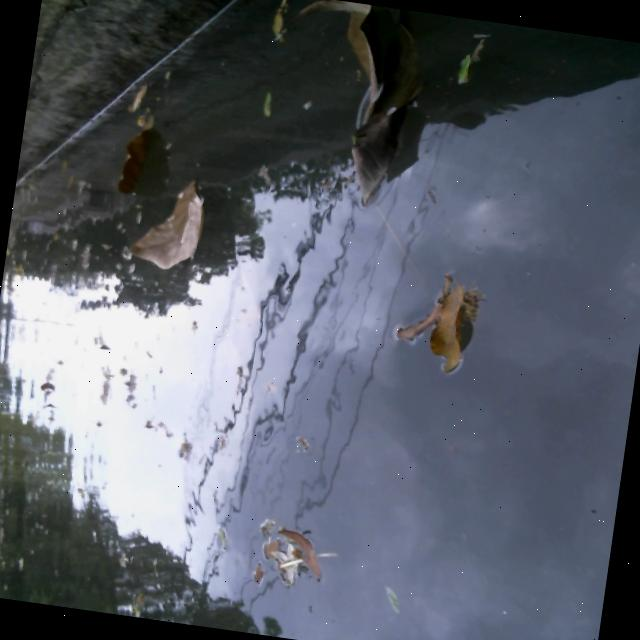Big-leaf: (275, 0, 428, 203), (389, 260, 505, 383), (125, 163, 221, 284), (107, 111, 160, 200)
Small-leaf: (273, 521, 342, 590), (453, 30, 519, 97), (119, 67, 169, 112), (376, 576, 421, 623), (254, 0, 299, 40), (247, 93, 286, 121)
